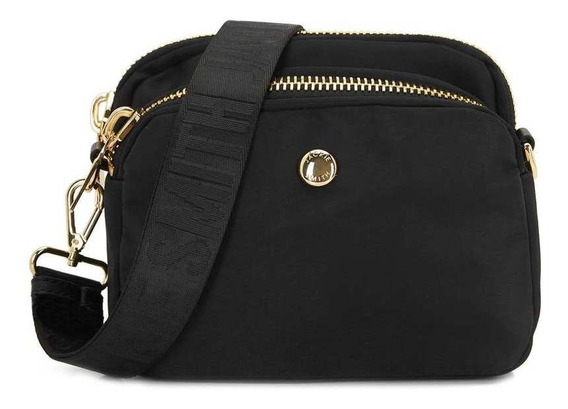cartera: (24, 18, 543, 383)
